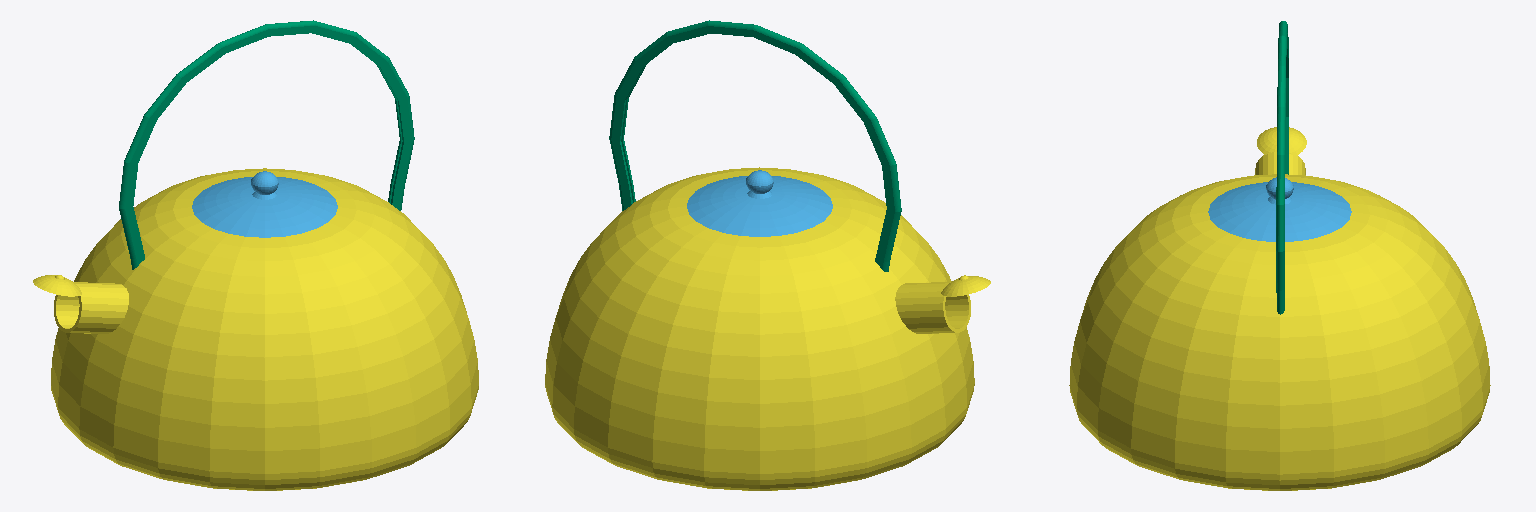
robot.urdf — partnet_4bc22594b9ef414dc4bc96bd95a8071f:
<?xml version="1.0" ?>
<robot name="partnet_4bc22594b9ef414dc4bc96bd95a8071f">
	<link name="base"/>
	<link name="link_0">
		<visual name="lid-1">
			<origin xyz="0 0 0"/>
			<geometry>
				<mesh filename="textured_objs/original-3.obj"/>
			</geometry>
		</visual>
		<visual name="lid-1">
			<origin xyz="0 0 0"/>
			<geometry>
				<mesh filename="textured_objs/original-2.obj"/>
			</geometry>
		</visual>
		<collision>
			<origin xyz="0 0 0"/>
			<geometry>
				<mesh filename="textured_objs/original-3.obj"/>
			</geometry>
		</collision>
		<collision>
			<origin xyz="0 0 0"/>
			<geometry>
				<mesh filename="textured_objs/original-2.obj"/>
			</geometry>
		</collision>
	</link>
	<joint name="joint_0" type="prismatic">
		<origin xyz="0 0 0"/>
		<axis xyz="0 1 0"/>
		<child link="link_0"/>
		<parent link="link_2"/>
		<limit lower="0" upper="0.02400000000000002"/>
	</joint>
	<link name="link_1">
		<visual name="handle-2">
			<origin xyz="-0.02560625915299171 -0.29093208944834004 0"/>
			<geometry>
				<mesh filename="textured_objs/original-6.obj"/>
			</geometry>
		</visual>
		<collision>
			<origin xyz="-0.02560625915299171 -0.29093208944834004 0"/>
			<geometry>
				<mesh filename="textured_objs/original-6.obj"/>
			</geometry>
		</collision>
	</link>
	<joint name="joint_1" type="revolute">
		<origin xyz="0.02560625915299171 0.29093208944834004 0"/>
		<axis xyz="0 0 -1"/>
		<child link="link_1"/>
		<parent link="link_2"/>
		<limit lower="-1.9198621771937625" upper="1.9198621771937625"/>
	</joint>
	<link name="link_2">
		<visual name="base_body-3">
			<origin xyz="0 0 0"/>
			<geometry>
				<mesh filename="textured_objs/original-4.obj"/>
			</geometry>
		</visual>
		<visual name="base_body-3">
			<origin xyz="0 0 0"/>
			<geometry>
				<mesh filename="textured_objs/original-5.obj"/>
			</geometry>
		</visual>
		<collision>
			<origin xyz="0 0 0"/>
			<geometry>
				<mesh filename="textured_objs/original-4.obj"/>
			</geometry>
		</collision>
		<collision>
			<origin xyz="0 0 0"/>
			<geometry>
				<mesh filename="textured_objs/original-5.obj"/>
			</geometry>
		</collision>
	</link>
	<joint name="joint_2" type="fixed">
		<origin rpy="1.570796326794897 0 -1.570796326794897" xyz="0 0 0"/>
		<child link="link_2"/>
		<parent link="base"/>
	</joint>
</robot>

--- What the picture shows (computed from the rendered views, not written in the file) ---
3 views of the same robot in one strip: view 1: azimuth 30°, elevation 25°; view 2: azimuth 150°, elevation 25°; view 3: azimuth 270°, elevation 25° (orthographic).
Robot: partnet_4bc22594b9ef414dc4bc96bd95a8071f — 4 links, 3 joints (1 revolute, 1 prismatic, 1 fixed); root link base; default pose: every joint at zero.
Links seen in each view (by area): view 1: link_2, link_1, link_0; view 2: link_2, link_1, link_0; view 3: link_2, link_0, link_1.
Link boxes in pixels (box(x1,y1,x2,y2)): link_2: box(33, 168, 478, 490); link_1: box(119, 20, 414, 269); link_0: box(192, 171, 337, 237); link_2: box(545, 167, 990, 490); link_1: box(609, 20, 901, 271); link_0: box(687, 170, 832, 236); link_2: box(1069, 127, 1490, 490); link_0: box(1208, 177, 1351, 241); link_1: box(1276, 21, 1288, 314).
Bounding box of the posed robot: 1.54 × 1.38 × 1.36 m (x, y, z).
Meshes: 5 distinct files referenced, 5 mesh visuals loaded (5 OBJ).